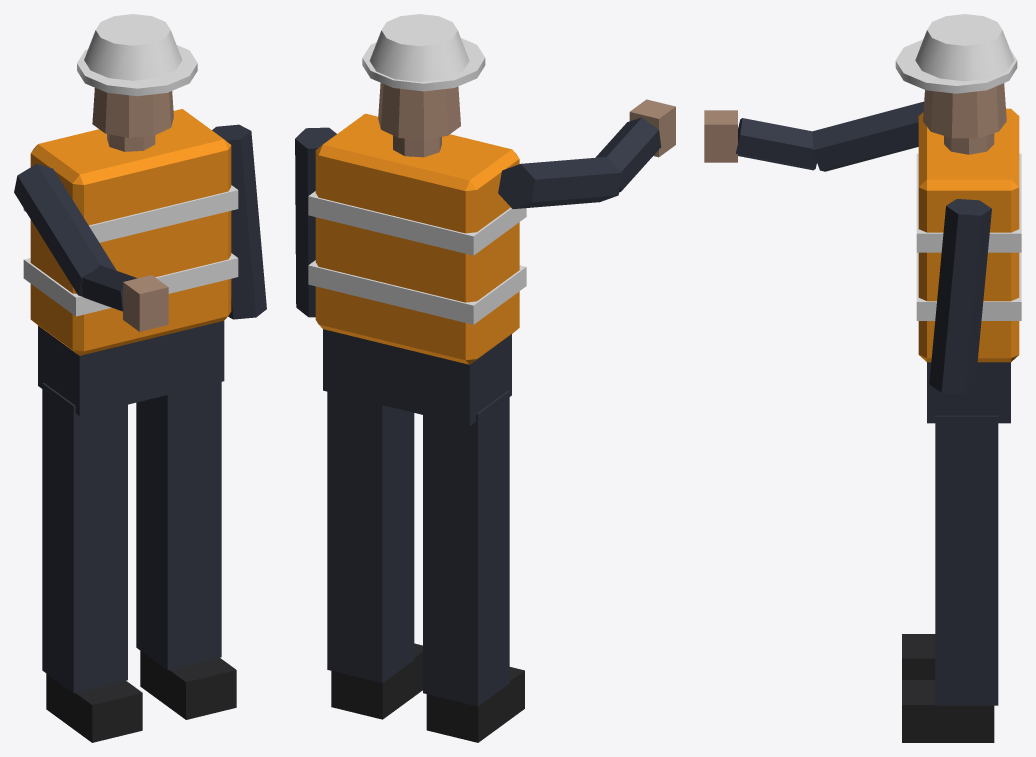
The model's file is worker.glb.
The picture shows the model from 3 angles, left to right: view 1: azimuth 30°, elevation 25°; view 2: azimuth 150°, elevation 25°; view 3: azimuth 270°, elevation 25°; orthographic projection.
Visible parts, largest first — view 1: Body_LOD0; view 2: Body_LOD0; view 3: Body_LOD0.
Part boxes in pixels (x1,y1,x2,y2): Body_LOD0: (14, 14, 266, 742); Body_LOD0: (295, 14, 675, 742); Body_LOD0: (704, 14, 1021, 742).
Size of the model in its own units: 0.6865 by 1.78 by 0.755.
